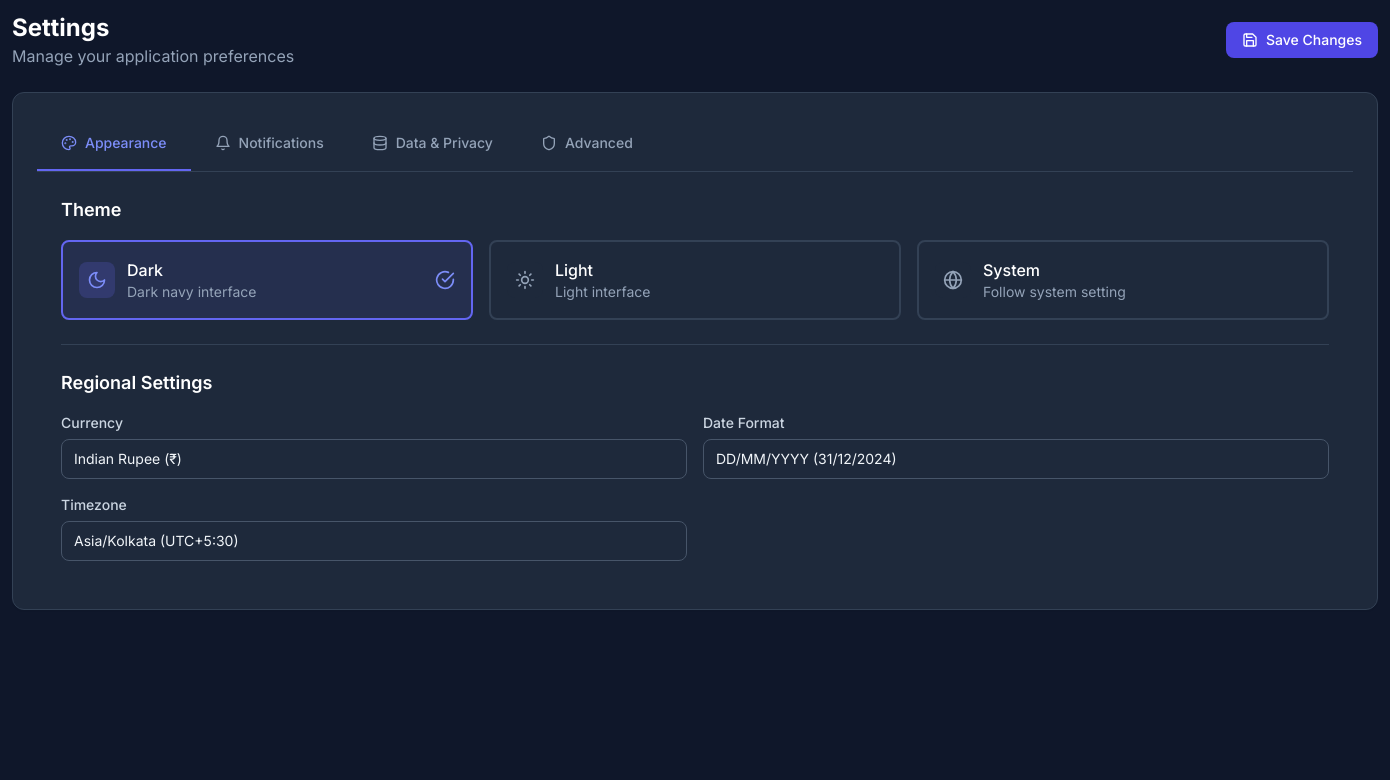
Scenario: Settings Page › switches to the data tab
Click the tab "Data & Privacy". click: (432, 144)
box: [348,117,517,171]
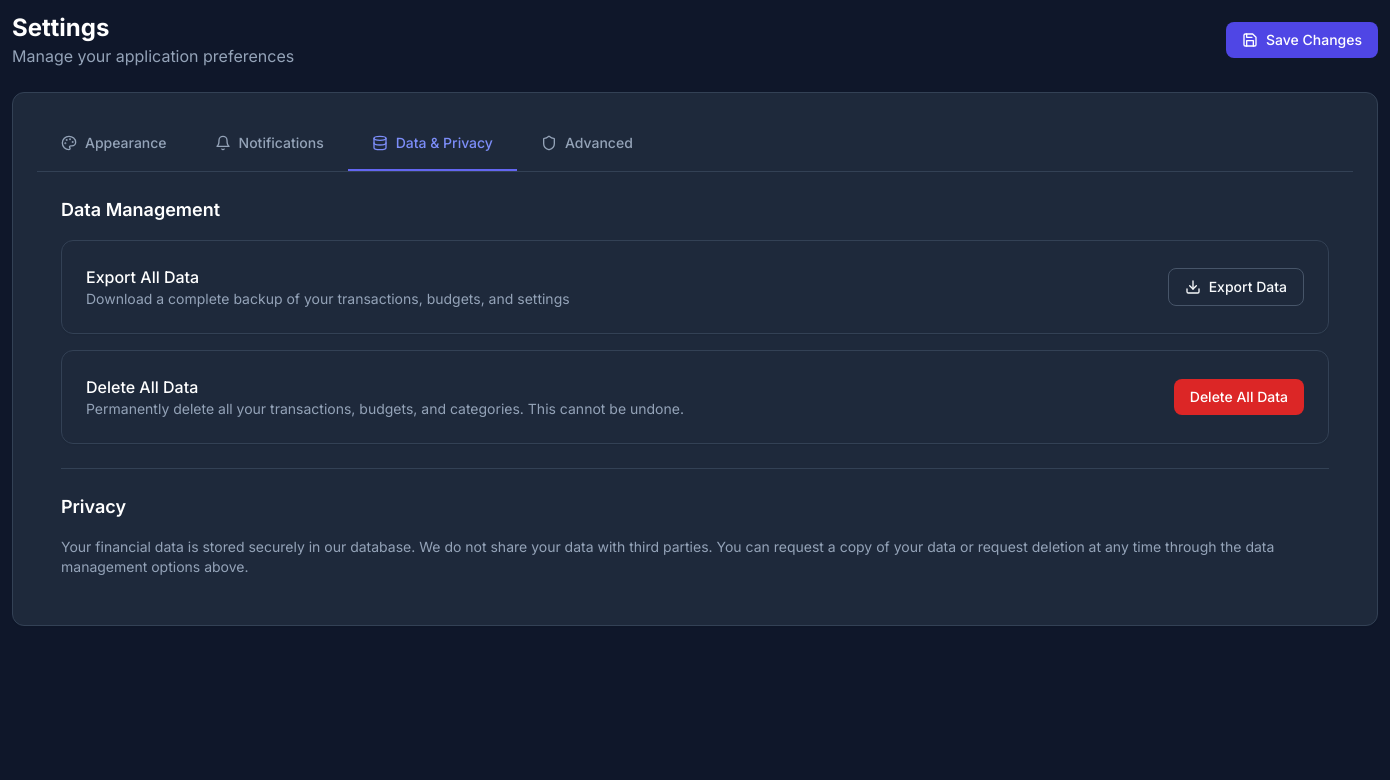
Expected: the heading "Data Management" is shown, [61,199,220,220]
Expected: the text "Export All Data" is shown, [86,267,199,287]
Expected: the button "Export Data" is shown, [1168,268,1304,306]
